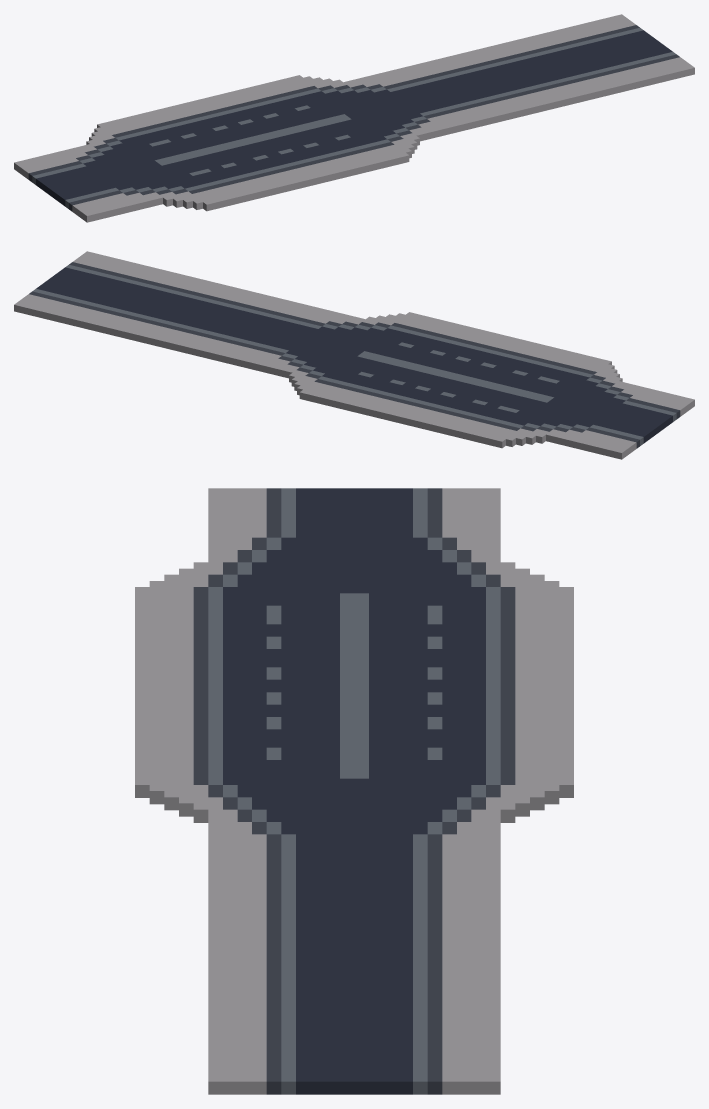
The model's file is Road(1)-5-road 6.obj.
3 renders of one model, top to bottom at view 1: azimuth 30°, elevation 25°; view 2: azimuth 150°, elevation 25°; view 3: azimuth 270°, elevation 25°, orthographic. The views are drawn at different scales.
Visible parts, largest first — view 1: road 6; view 2: road 6; view 3: road 6.
Part boxes in pixels (x1=…): road 6: x1=14, y1=14, x2=694, y2=222; road 6: x1=14, y1=251, x2=694, y2=459; road 6: x1=135, y1=488, x2=573, y2=1094.
Bounding box in the file's own units: 9.6 × 0.1 × 3.
1 material, 1 textured.
